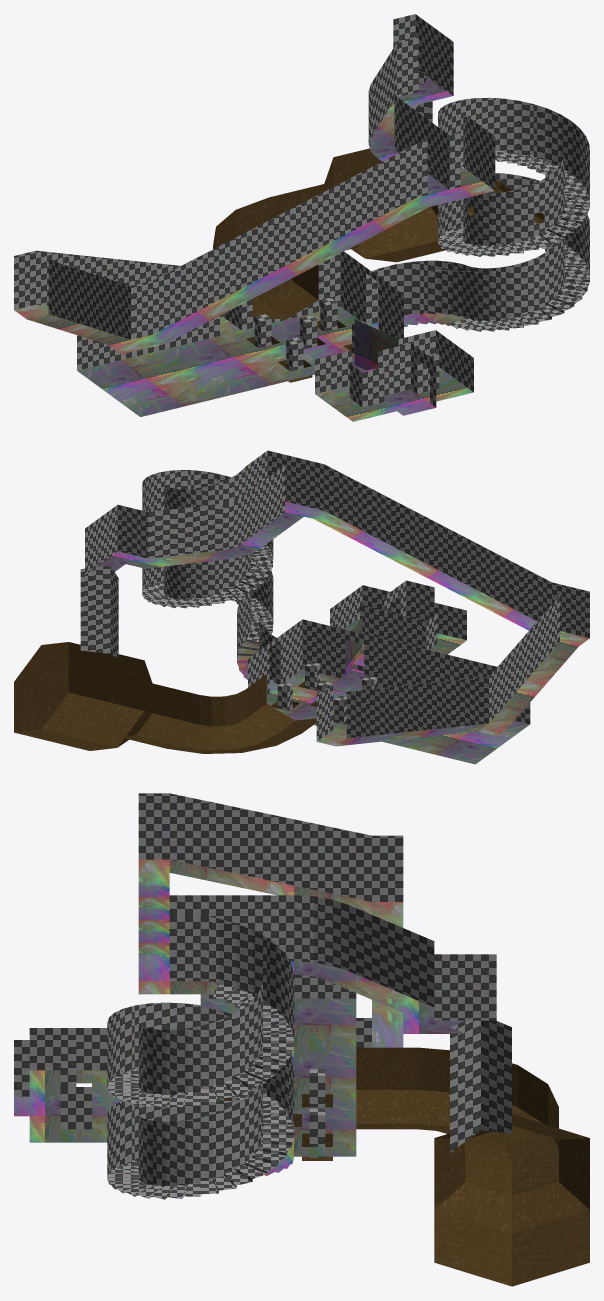
Rendered from level_buddy.glb.
The picture shows the model from 3 angles, top to bottom: view 1: azimuth 30°, elevation 25°; view 2: azimuth 150°, elevation 25°; view 3: azimuth 270°, elevation 25°; orthographic projection. The views are drawn at different scales.
Parts seen in each view (by area): view 1: Map; view 2: Map; view 3: Map.
Part boxes in pixels (bbox=[...]): Map: bbox=[14, 14, 589, 421]; Map: bbox=[14, 450, 589, 764]; Map: bbox=[14, 793, 589, 1286].
Bounding box in the file's own units: 44 × 20.75 × 37.
3 materials, 3 textured.
